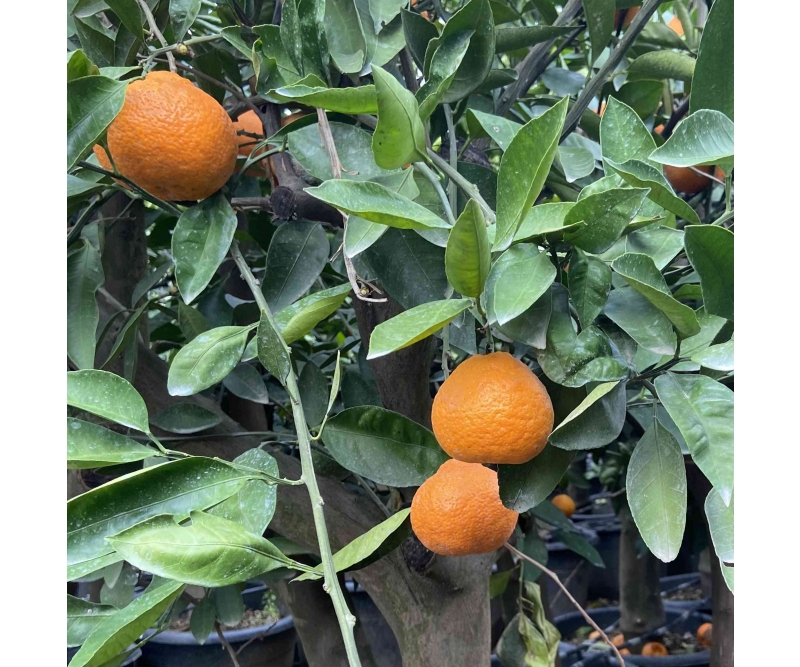portakal: (91, 52, 241, 273), (433, 343, 625, 469)
